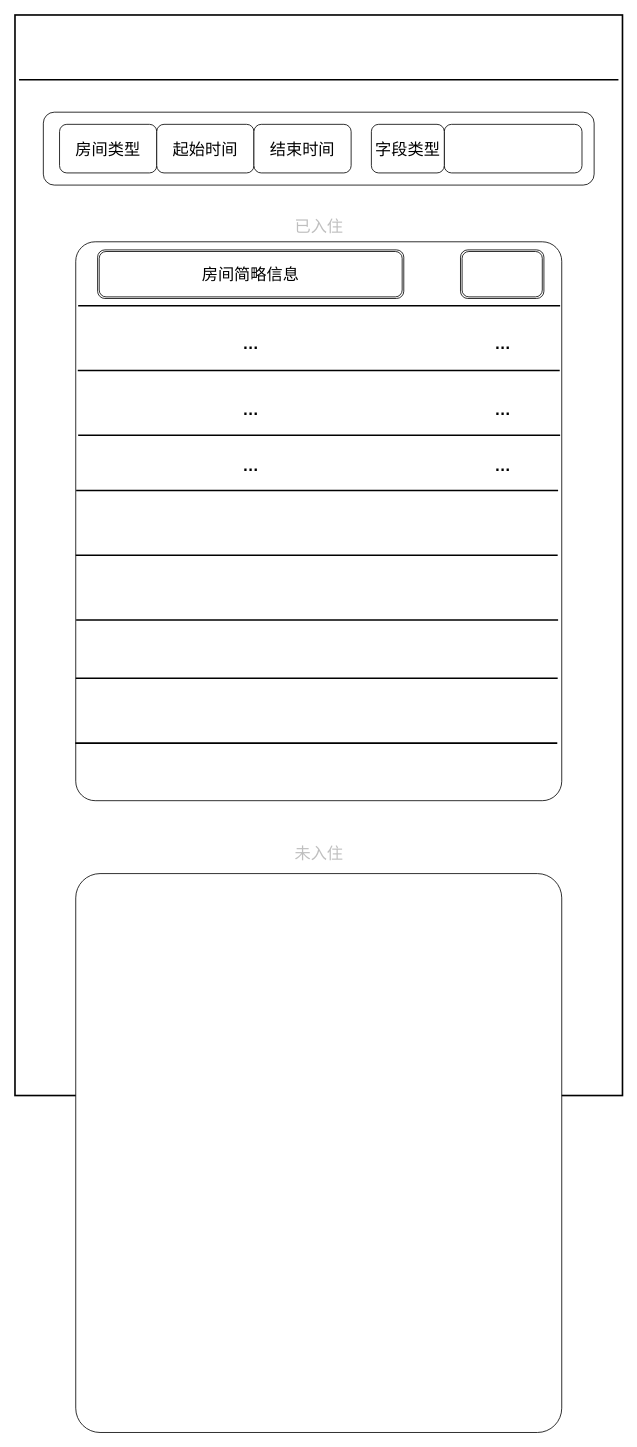
Image size: 637x1447. Some labels were removed from this diagram. The box of each missing label's shape, as (x1, y1, x2, y2) in pixels:
开关: (460, 249, 544, 298)
搜索框: (443, 124, 582, 173)
